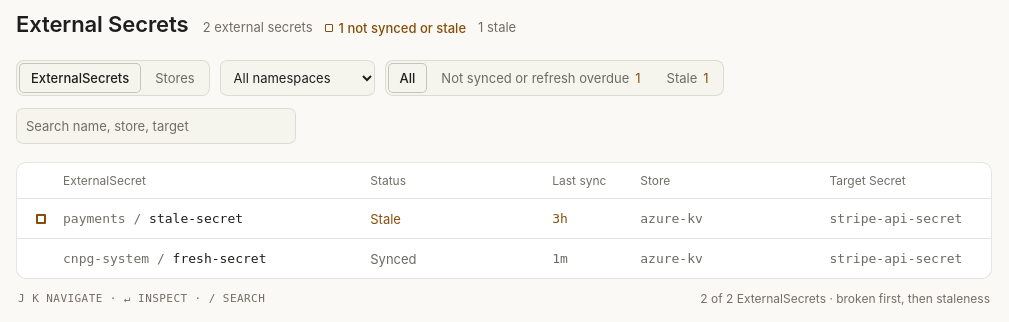
Test case: ExternalSecretsView › filters secrets by stale and namespace
The width and height of the screenshot is (1009, 322).
Click the button "Stale 1" at (688,78), box left=655, top=63, right=721, bottom=93
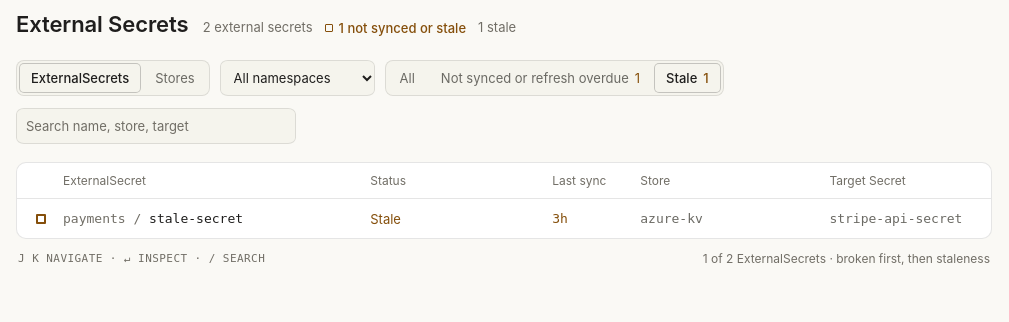
Expected: the button with class "lens-row" shows "stale-secret", left=17, top=199, right=991, bottom=239
Expected: the button "fresh-secret" is gone
Click the button "All" at (407,78), box left=388, top=63, right=427, bottom=93
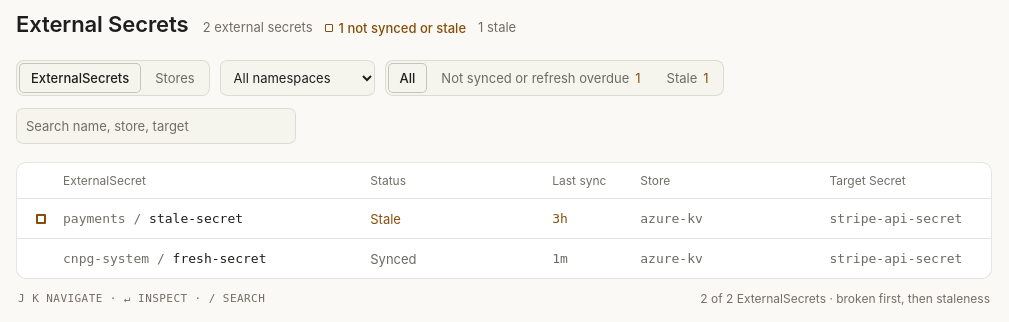
Select "cnpg-system" in the dropdown named "Namespace" at (297,78), box left=220, top=58, right=375, bottom=98
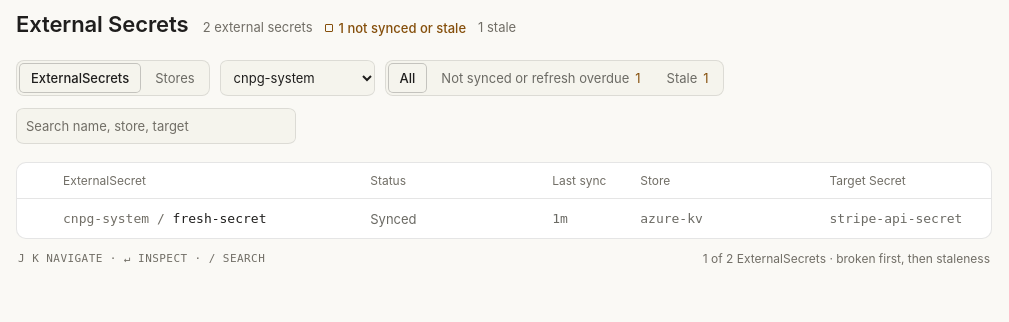
Expected: the button with class "lens-row" shows "fresh-secret", left=17, top=199, right=991, bottom=239
Expected: the button "stale-secret" is gone
